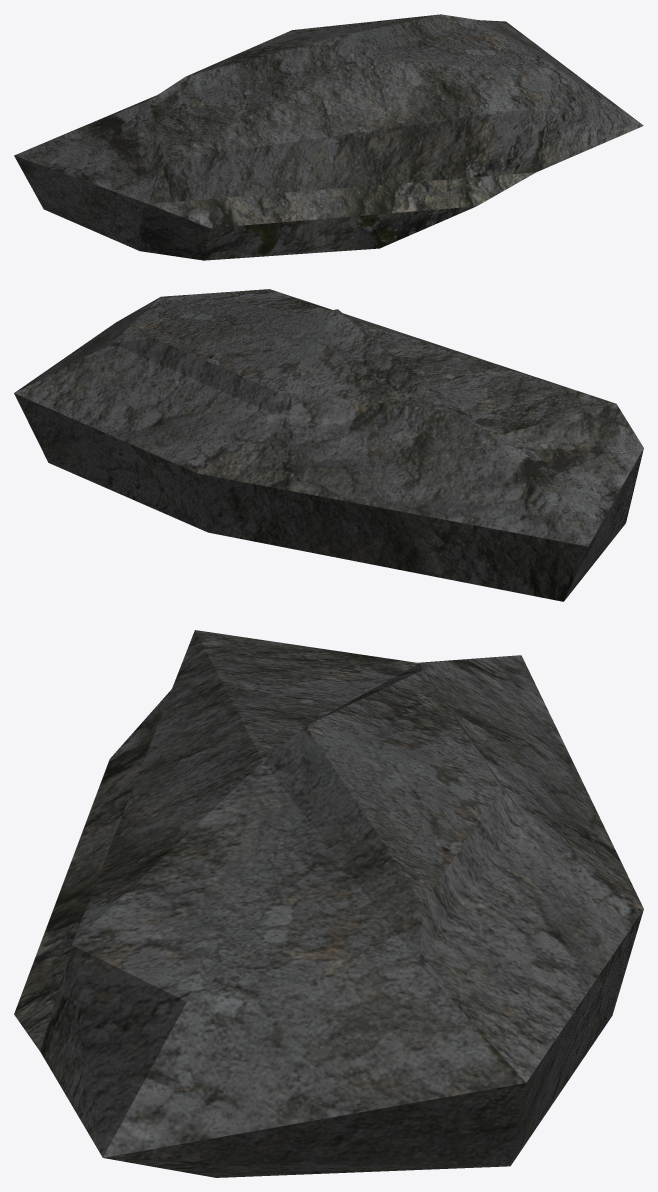
Rendered from Rock_1.fbx.
3 renders of one model, top to bottom at view 1: azimuth 30°, elevation 25°; view 2: azimuth 150°, elevation 25°; view 3: azimuth 270°, elevation 25°, orthographic. The views are drawn at different scales.
Parts seen in each view (by area): view 1: Rock_1; view 2: Rock_1; view 3: Rock_1.
Part boxes in pixels (x1,y1,x2,y2): Rock_1: (14, 14, 643, 260); Rock_1: (14, 289, 643, 601); Rock_1: (14, 630, 643, 1177).
Size of the model in its own units: 426 by 144 by 239.
